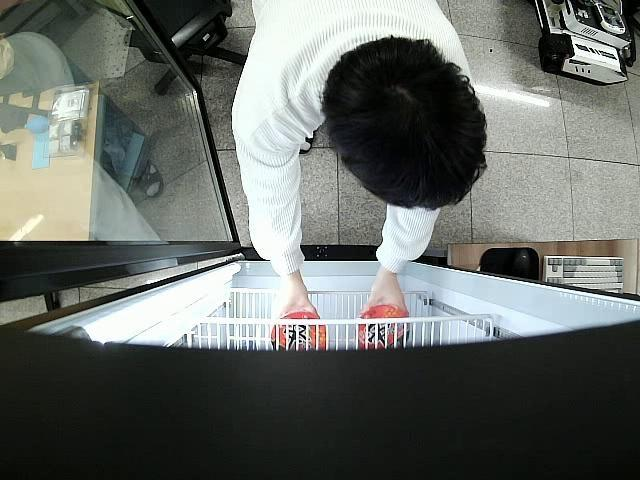01_ShinRamen_L: (358, 303, 410, 350), (269, 314, 326, 354)
